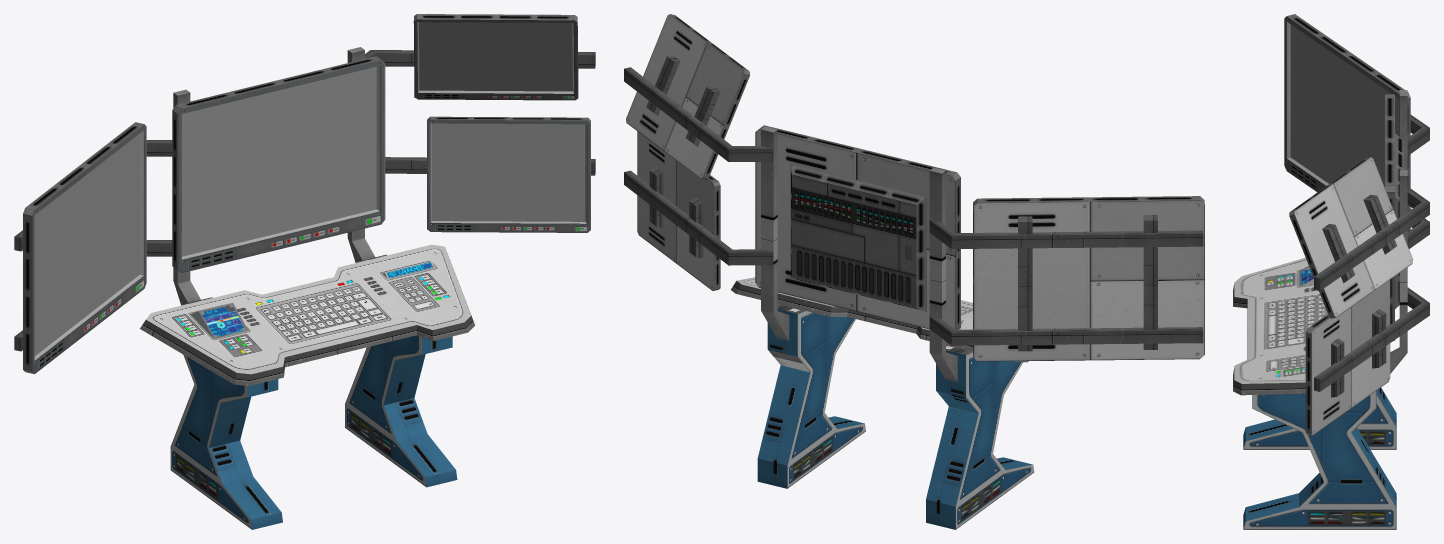
The model's file is Computer_Multi_01.FBX.
3 views of the same model, side by side, from view 1: azimuth 30°, elevation 25°; view 2: azimuth 150°, elevation 25°; view 3: azimuth 270°, elevation 25° (orthographic). The views are drawn at different scales.
Parts seen in each view (by area): view 1: Computer_Multi_01, Screen_B, Screen_D, Screen_A, Screen_C; view 2: Computer_Multi_01; view 3: Computer_Multi_01, Screen_A.
Part boxes in pixels (x1=…): Computer_Multi_01: x1=14, y1=14, x2=595, y2=529; Screen_B: x1=182, y1=66, x2=376, y2=256; Screen_D: x1=432, y1=123, x2=585, y2=221; Screen_A: x1=34, y1=133, x2=139, y2=355; Screen_C: x1=419, y1=22, x2=572, y2=91; Computer_Multi_01: x1=624, y1=14, x2=1204, y2=529; Computer_Multi_01: x1=1233, y1=14, x2=1429, y2=529; Screen_A: x1=1290, y1=24, x2=1399, y2=187.
Bounding box in the file's own units: 124 × 82.4 × 38.14.
